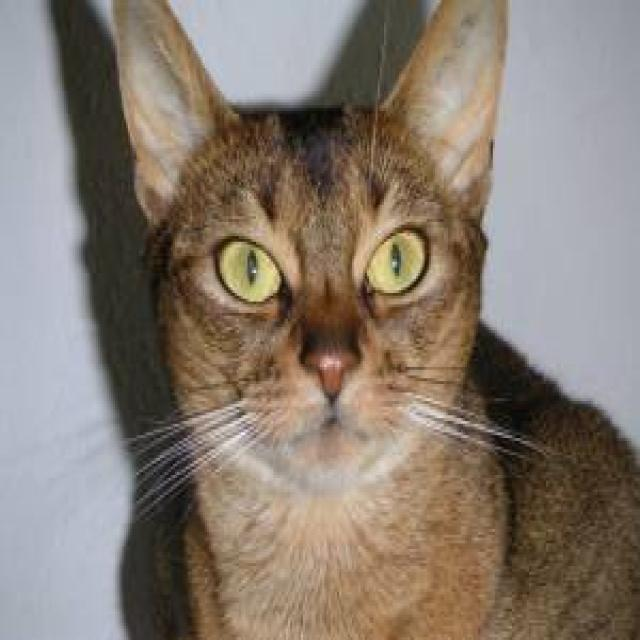Abyssinian: (106, 0, 516, 496)
